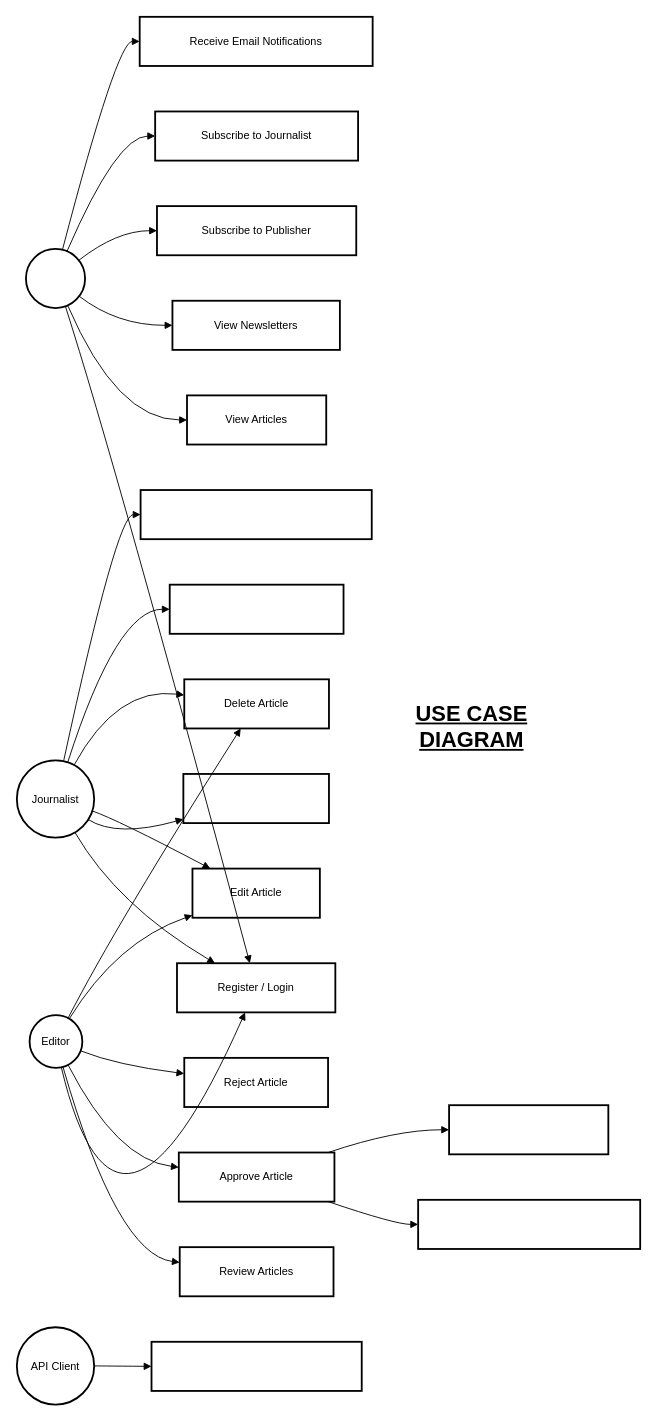
The diagram is 656 pixels wide and 1421 high, and some of its shapes have lost their labels. Each missing label, with the centre of its shape:
"Create Article" goes at pixel 255 798.
"Create Newsletter" goes at pixel 256 608.
"Post Article to X" goes at pixel 528 1129.
"Reader" goes at pixel 55 278.
"Retrieve Articles via API" goes at pixel 256 1365.
"Send Email to Subscribers" goes at pixel 529 1223.
"Submit Article for Approval" goes at pixel 255 514.
